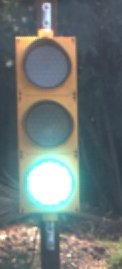Green: (7, 24, 99, 245)
